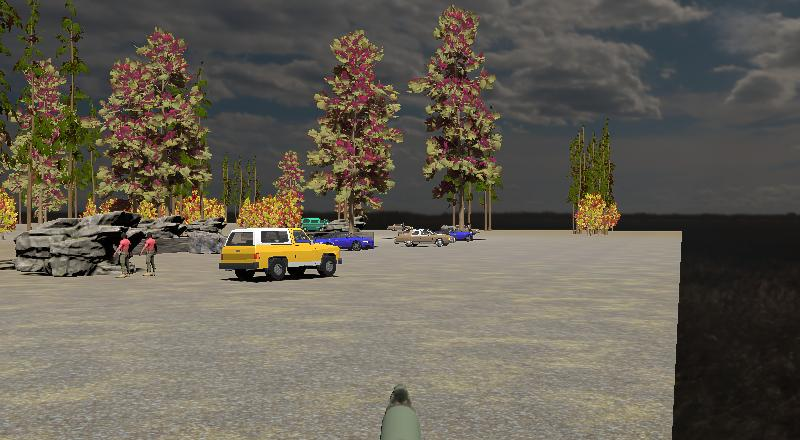Human: (140, 231, 159, 278), (115, 230, 133, 279)
car: (218, 226, 342, 282), (312, 228, 375, 253), (394, 227, 451, 248), (445, 226, 477, 243), (300, 216, 329, 234), (386, 221, 410, 232)
